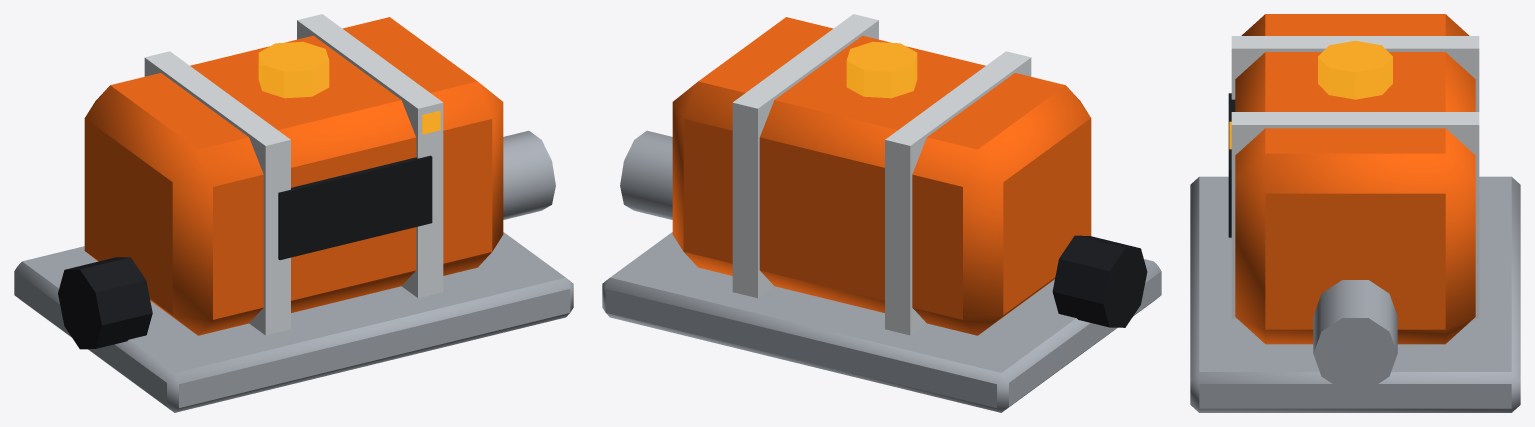
File: storage_black_box_recorder.glb
3 views of the same model, side by side, from view 1: azimuth 30°, elevation 25°; view 2: azimuth 150°, elevation 25°; view 3: azimuth 270°, elevation 25° (orthographic). The views are drawn at different scales.
Parts seen in each view (by area): view 1: storage_black_box_recorder; view 2: storage_black_box_recorder; view 3: storage_black_box_recorder.
Boxes of the visible parts, bbox=[...] form: storage_black_box_recorder: bbox=[14, 14, 573, 412]; storage_black_box_recorder: bbox=[602, 14, 1161, 412]; storage_black_box_recorder: bbox=[1190, 14, 1520, 412].
Size of the model in its own units: 0.37 by 0.19 by 0.22.
